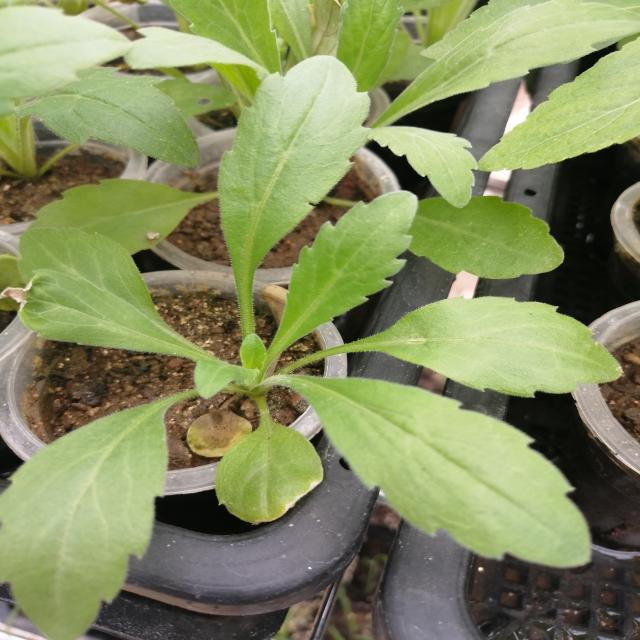horseweed: (40, 83, 610, 613)
